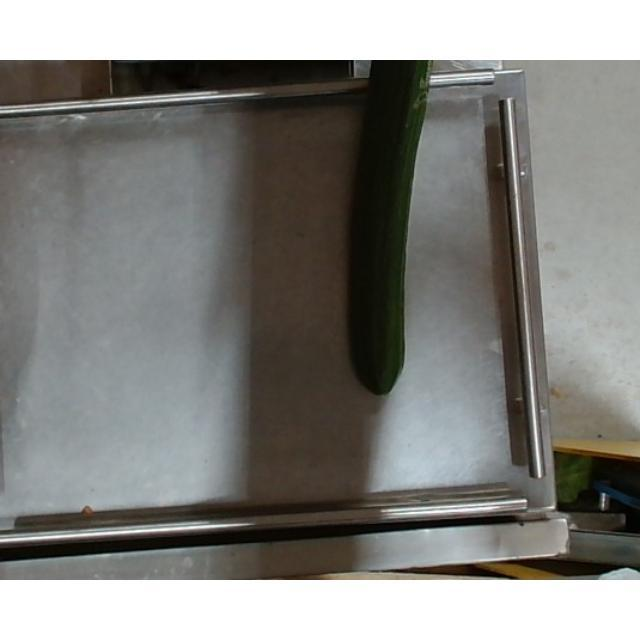cucumber: (346, 60, 430, 394)
